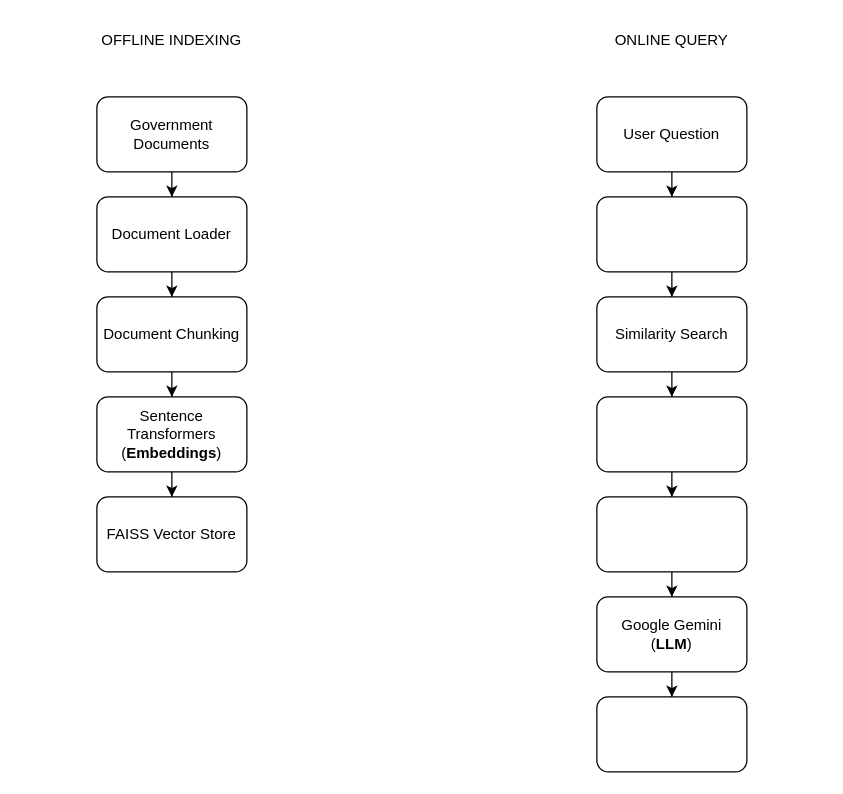
Some shapes in this 843 by 794 pixel diagram are drawn without their labels. Here are the shapes that lost their labels. From the top down, the centre of each, then its label:
At point (671, 234): "Query Embedding".
At point (671, 434): "Retrieved Chunks".
At point (671, 534): "Build Prompt".
At point (671, 734): "Final Answer".
